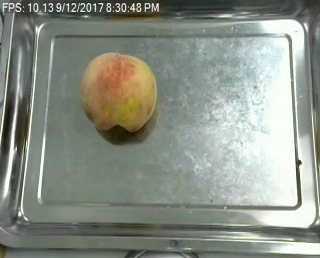Peach: (80, 51, 157, 134)
